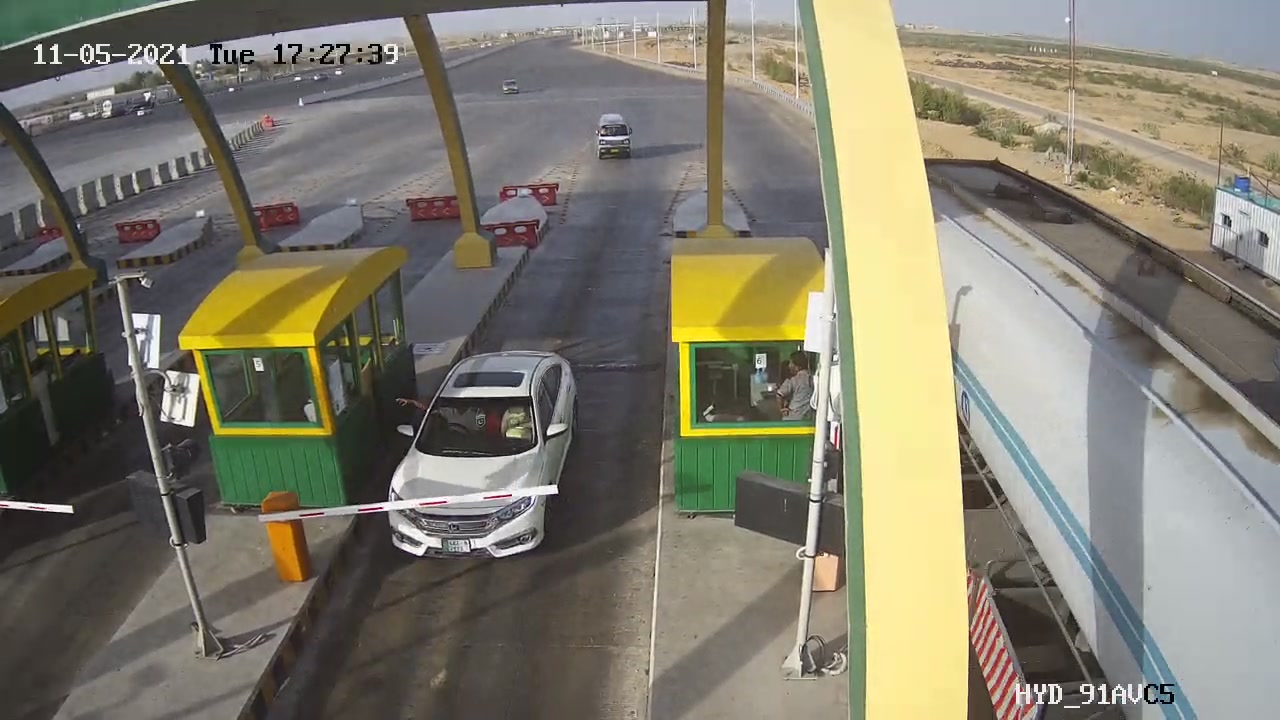F1: (368, 327, 592, 587)
